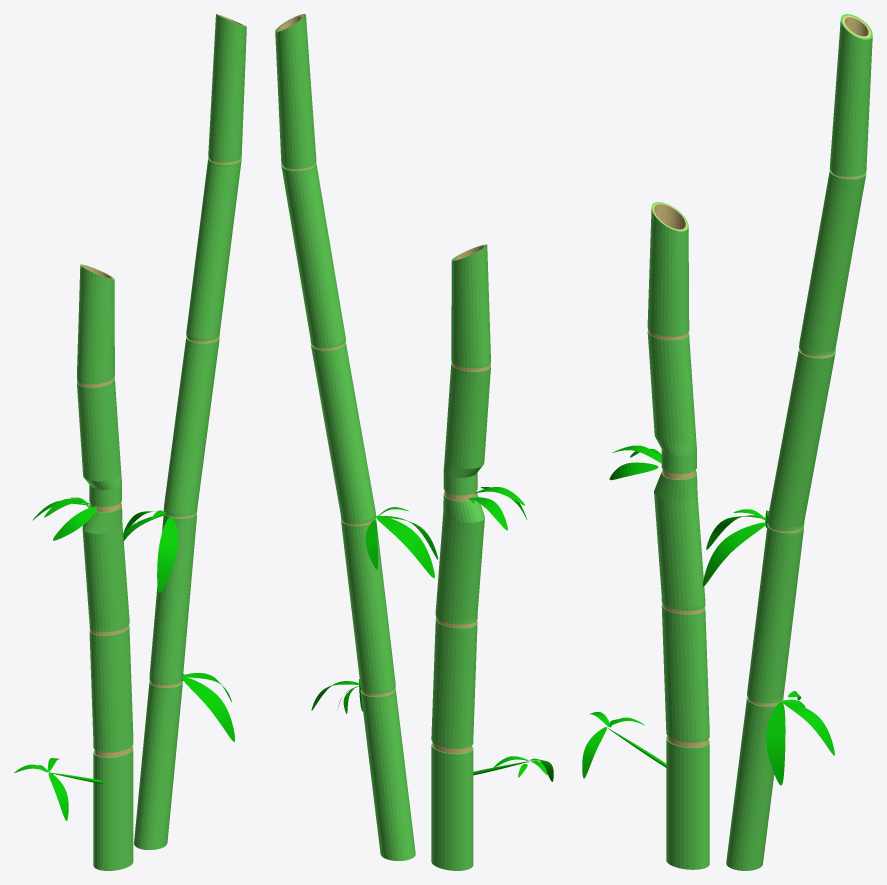
Rendered from bamboo.glb.
3 views of the same model, side by side, from view 1: azimuth 30°, elevation 25°; view 2: azimuth 150°, elevation 25°; view 3: azimuth 330°, elevation 25° (orthographic). The views are drawn at different scales.
Visible parts, largest first — view 1: 실린더.001, 실린더, 평면.012, 평면.009, 평면.005; view 2: 실린더.001, 실린더, 평면.013; view 3: 실린더.001, 실린더, 평면.009, 평면.012, 평면.008, 실린더.002.
Boxes of the visible parts, left/top/right/bottom form: 실린더.001: left=134, top=14, right=246, bottom=849; 실린더: left=77, top=264, right=133, bottom=870; 평면.012: left=157, top=516, right=177, bottom=592; 평면.009: left=183, top=676, right=235, bottom=741; 평면.005: left=53, top=506, right=97, bottom=540; 실린더.001: left=275, top=14, right=415, bottom=860; 실린더: left=431, top=244, right=490, bottom=870; 평면.013: left=376, top=515, right=434, bottom=578; 실린더.001: left=726, top=14, right=872, bottom=870; 실린더: left=647, top=202, right=709, bottom=869; 평면.009: left=766, top=702, right=785, bottom=785; 평면.012: left=702, top=522, right=766, bottom=586; 평면.008: left=782, top=701, right=834, bottom=755; 실린더.002: left=653, top=203, right=687, bottom=230.
Bounding box in the file's own units: 3.95 × 12.33 × 1.57.
